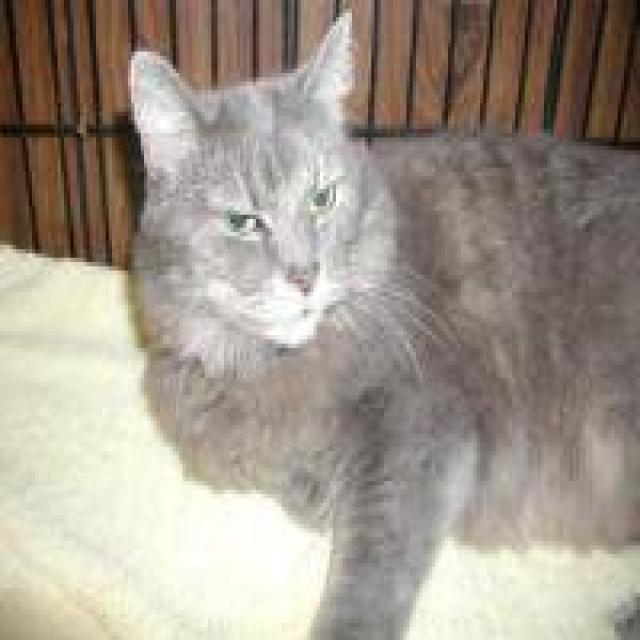cat: (125, 4, 637, 636)
